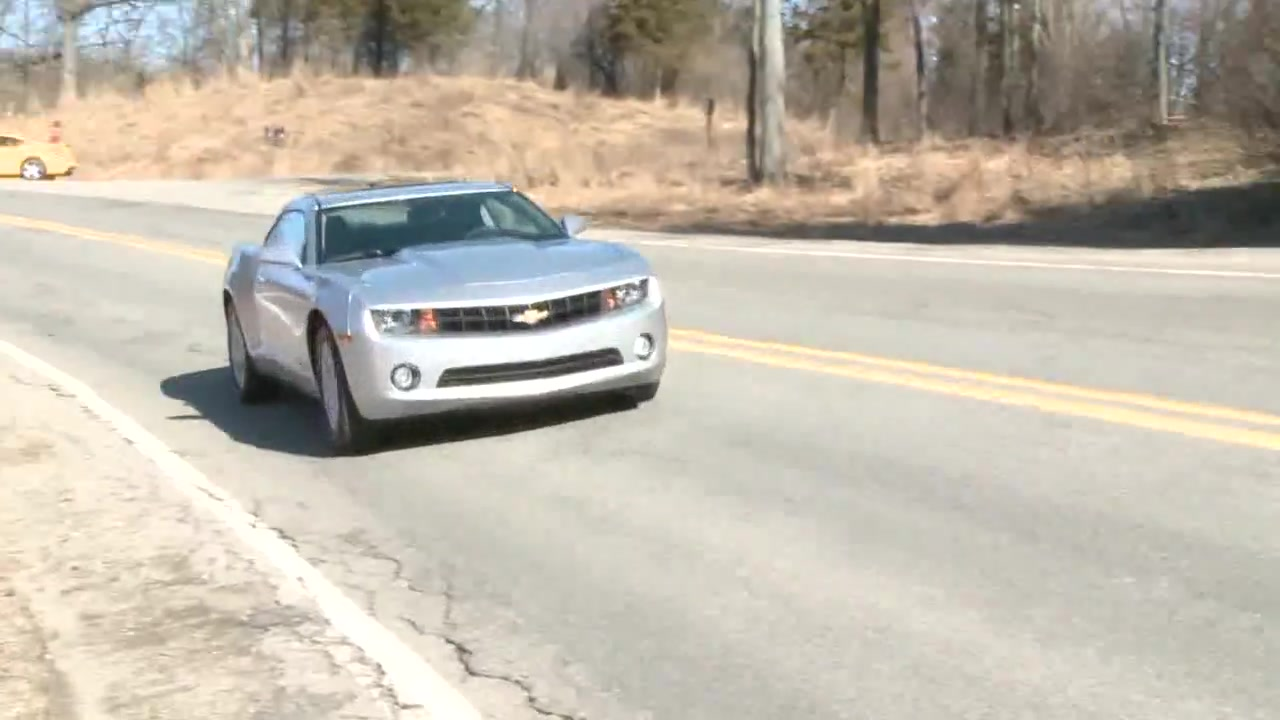car: (218, 185, 674, 460)
